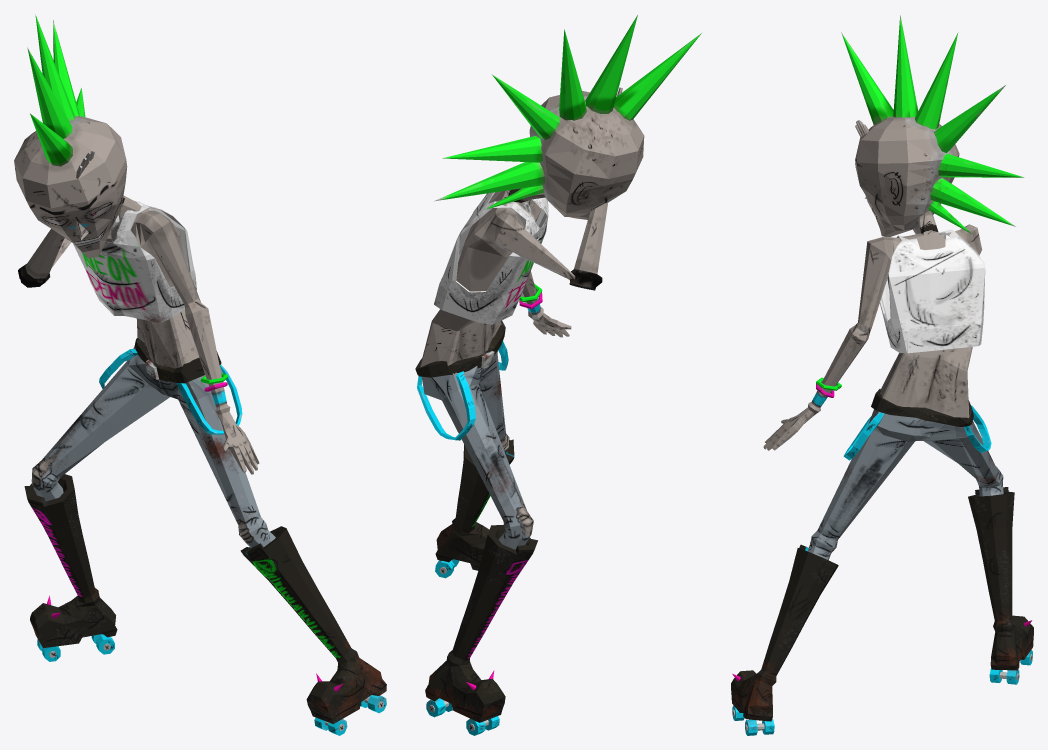
Rendered from punkAnimation_000010.obj.
3 views of the same model, side by side, from view 1: azimuth 30°, elevation 25°; view 2: azimuth 150°, elevation 25°; view 3: azimuth 270°, elevation 25° (orthographic). The views are drawn at different scales.
Visible parts, largest first — view 1: Cube.004_Cube.003; view 2: Cube.004_Cube.003; view 3: Cube.004_Cube.003.
Boxes of the visible parts, x1=… form: Cube.004_Cube.003: x1=14, y1=15, x2=386, y2=735; Cube.004_Cube.003: x1=415, y1=15, x2=701, y2=735; Cube.004_Cube.003: x1=731, y1=15, x2=1033, y2=735.
Size of the model in its own units: 3.17 by 6.71 by 3.01.
